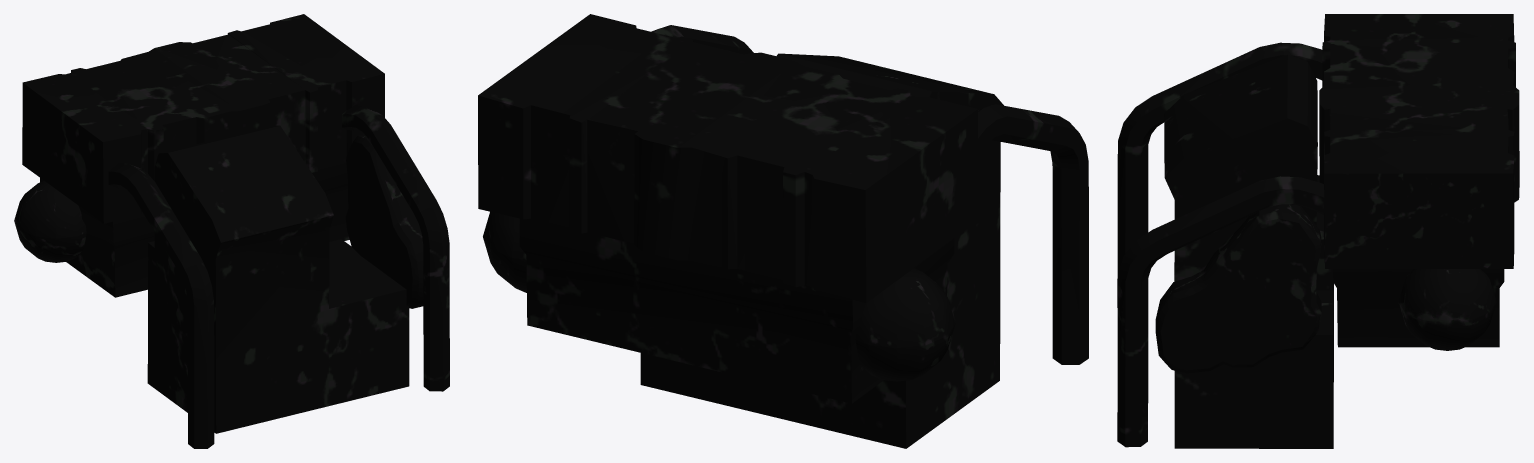
File: 01_02_carl_burn_effects.dae
The picture shows the model from 3 angles, left to right: view 1: azimuth 30°, elevation 25°; view 2: azimuth 150°, elevation 25°; view 3: azimuth 270°, elevation 25°; orthographic projection. The views are drawn at different scales.
Parts seen in each view (by area): view 1: burn_effects; view 2: burn_effects; view 3: burn_effects.
Boxes of the visible parts, left/top/right/bottom form: burn_effects: left=14, top=14, right=449, bottom=448; burn_effects: left=478, top=14, right=1088, bottom=448; burn_effects: left=1117, top=14, right=1519, bottom=448.
Size of the model in its own units: 0.6906 by 0.511 by 0.6236.
